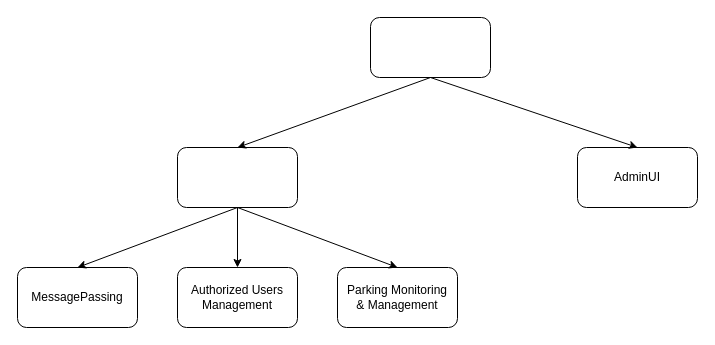
Image size: 715x345. Some labels were removed from this diagram. The centre of each missing label's shape, as x and y in pixels:
ParkingLotServer: the point at 430,47
ServerBL: the point at 237,177
